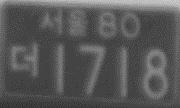0: (119, 12, 140, 39)
1: (110, 45, 139, 98), (46, 43, 72, 95)
7: (76, 44, 106, 95)
8: (142, 46, 168, 101), (98, 11, 117, 40)
더: (10, 42, 40, 76)
서울_O: (37, 7, 89, 37)
